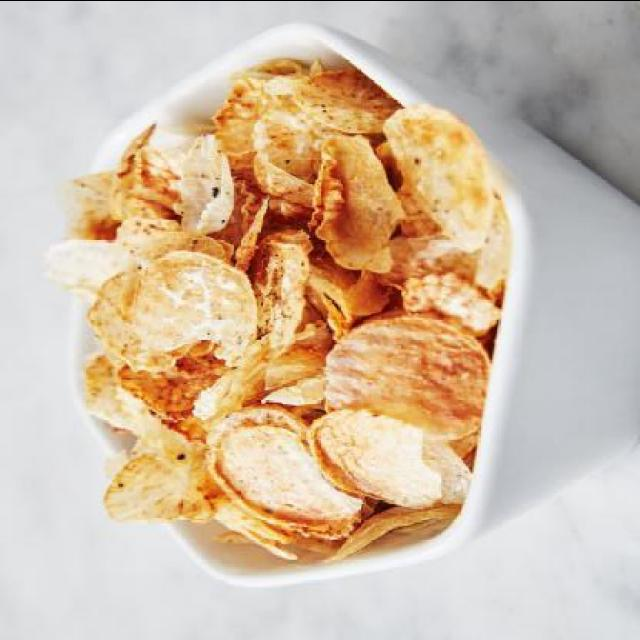Chips packaged: (73, 82, 507, 550)
